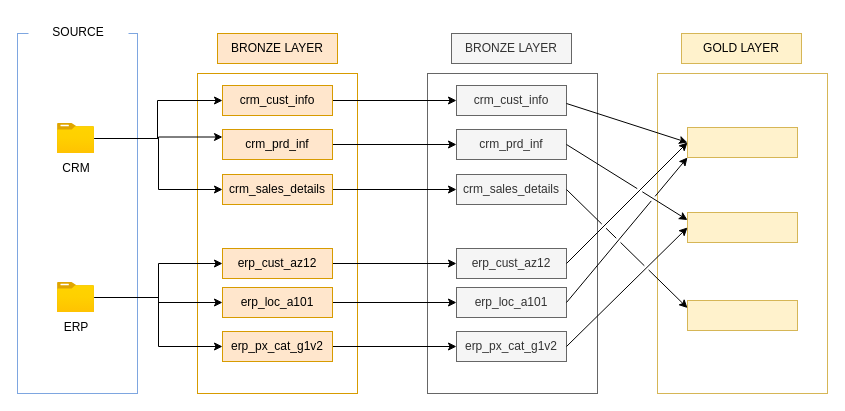
This 845x411 diagram has some shape labels left out. Each missing label, with the box of its shape:
dim_customers: (686, 126, 798, 158)
dim_product: (686, 212, 798, 242)
fact_sales: (686, 300, 798, 330)
